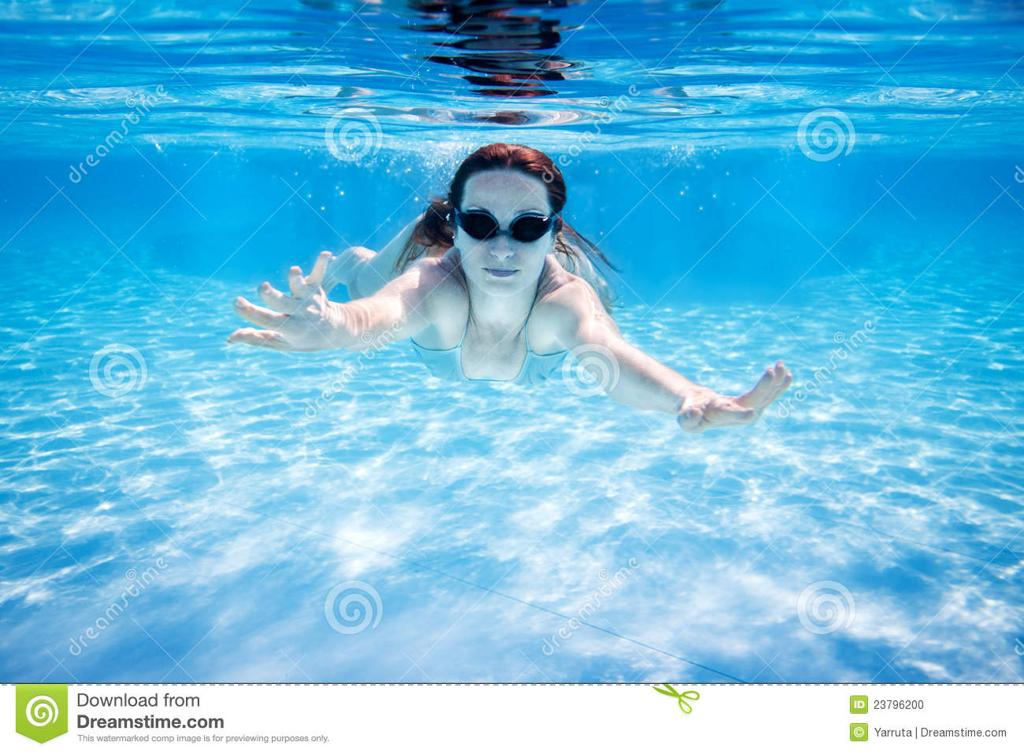face: (460, 176, 550, 304)
